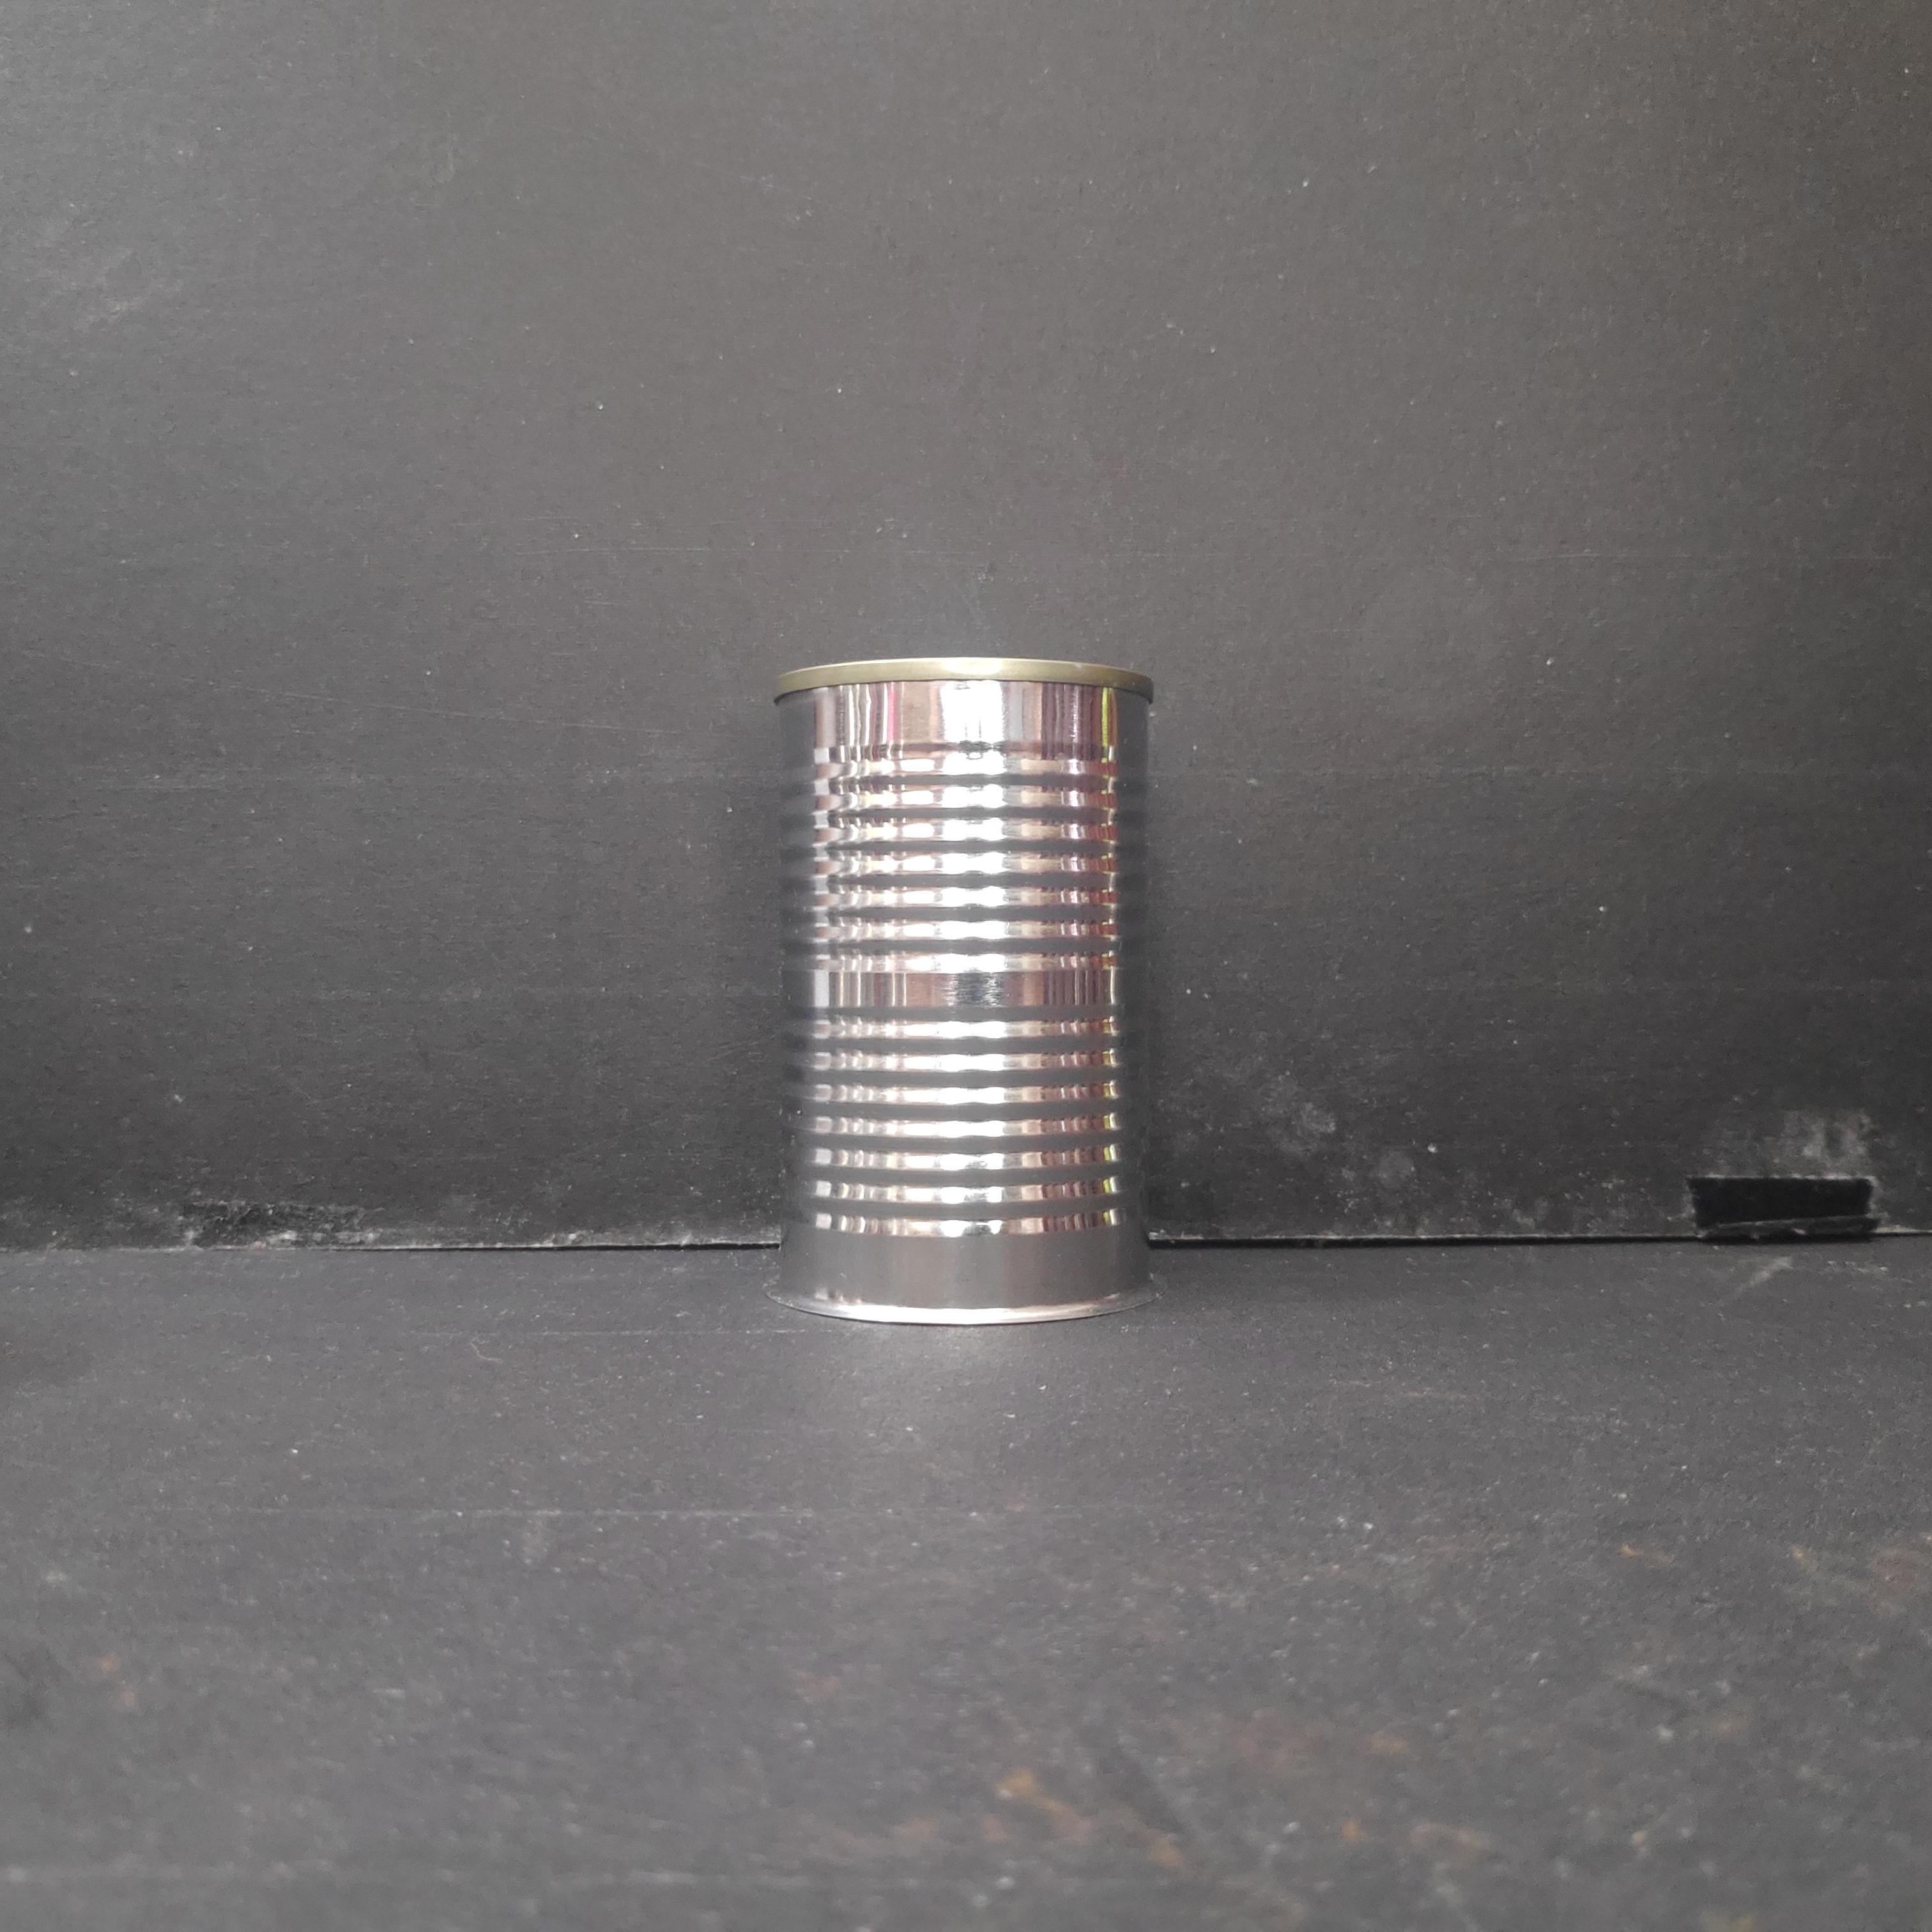No defect: (759, 652, 1174, 1328)
